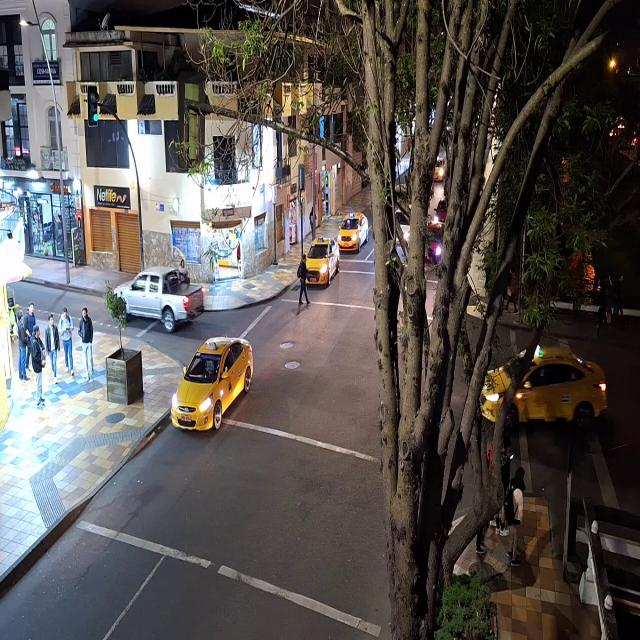CMT: (112, 268, 202, 324)
SED: (500, 352, 608, 423), (176, 338, 250, 428), (300, 237, 340, 292), (340, 217, 368, 252)
